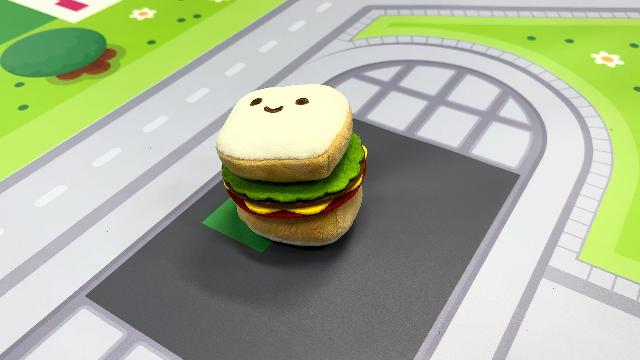sandwich: (214, 81, 370, 248)
